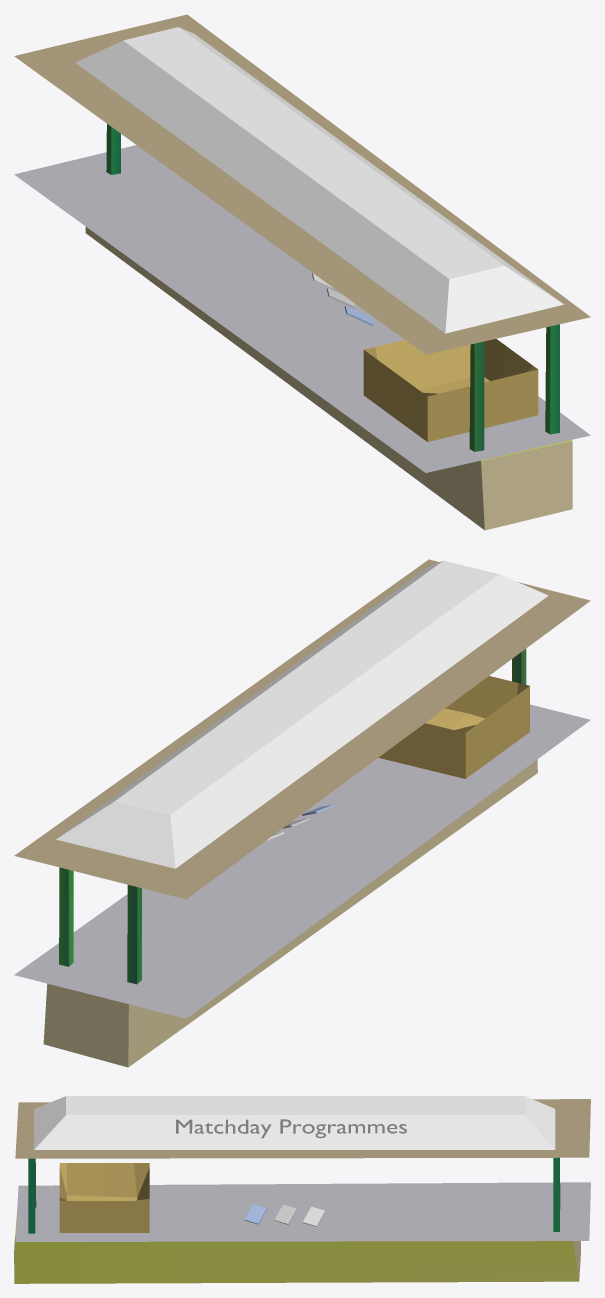
File: TicketBooth2.gltf
3 renders of one model, top to bottom at view 1: azimuth 30°, elevation 25°; view 2: azimuth 150°, elevation 25°; view 3: azimuth 270°, elevation 25°, orthographic. The views are drawn at different scales.
Parts seen in each view (by area): view 1: Rooftop, Plane, Roof plane, Prog box, Base, Pilar 2 L, Pilar 1 L, Pilar 3 R; view 2: Plane, Rooftop, Roof plane, Base, Prog box, Pilar 3 R, Pilar 4 R; view 3: Plane, Rooftop, Base, Roof plane, Prog box, Text, Pilar 1 L, Pilar 4 R, Prog 1.001, Prog 1, Prog 1.002.
Part boxes in pixels (x1=…): Rooftop: x1=75, y1=27, x2=563, y2=333; Plane: x1=14, y1=145, x2=590, y2=472; Roof plane: x1=14, y1=14, x2=590, y2=354; Prog box: x1=363, y1=339, x2=538, y2=441; Base: x1=85, y1=227, x2=572, y2=530; Pilar 2 L: x1=469, y1=341, x2=484, y2=451; Pilar 1 L: x1=545, y1=324, x2=559, y2=434; Pilar 3 R: x1=106, y1=124, x2=120, y2=174; Plane: x1=14, y1=704, x2=590, y2=1018; Rooftop: x1=56, y1=560, x2=548, y2=868; Roof plane: x1=14, y1=559, x2=590, y2=899; Base: x1=43, y1=759, x2=537, y2=1067; Prog box: x1=378, y1=676, x2=529, y2=778; Pilar 3 R: x1=127, y1=885, x2=141, y2=984; Pilar 4 R: x1=59, y1=867, x2=73, y2=966; Plane: x1=15, y1=1182, x2=590, y2=1241; Rooftop: x1=34, y1=1096, x2=555, y2=1149; Base: x1=14, y1=1214, x2=580, y2=1283; Roof plane: x1=15, y1=1099, x2=590, y2=1158; Prog box: x1=59, y1=1163, x2=149, y2=1232; Text: x1=176, y1=1119, x2=406, y2=1138; Pilar 1 L: x1=28, y1=1158, x2=35, y2=1233; Pilar 4 R: x1=553, y1=1157, x2=559, y2=1231; Prog 1.001: x1=244, y1=1204, x2=267, y2=1224; Prog 1: x1=274, y1=1204, x2=297, y2=1224; Prog 1.002: x1=302, y1=1206, x2=325, y2=1226.
Size of the model in its own units: 3.11 by 4.04 by 12.83.
